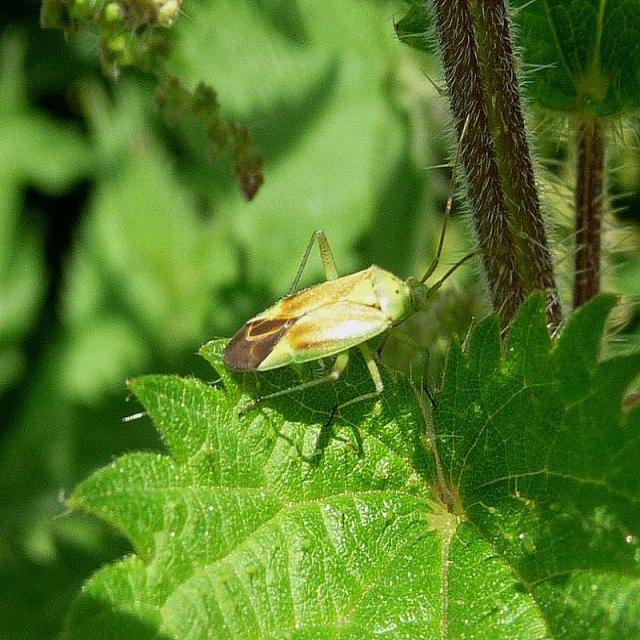Miridae-Adult-: (220, 108, 481, 425)
